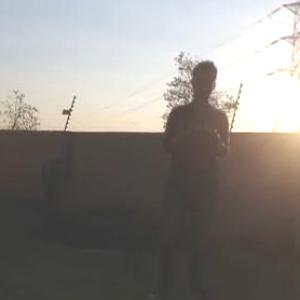follow: (146, 58, 231, 298)
